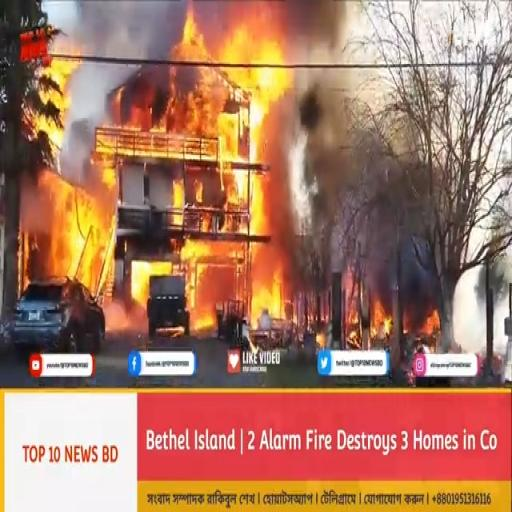fire: (216, 28, 293, 153), (42, 175, 109, 282), (165, 8, 215, 135), (182, 163, 265, 237), (28, 43, 85, 130), (178, 238, 250, 288), (248, 263, 284, 321)
